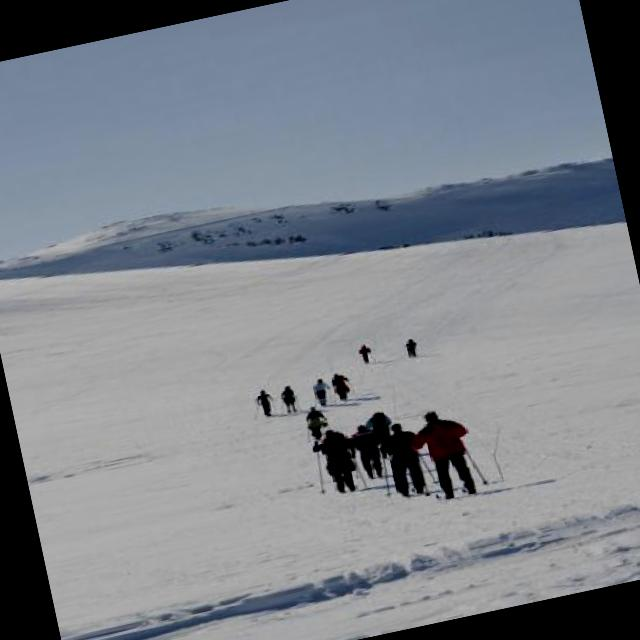Person: (402, 404, 482, 504), (375, 418, 430, 502), (311, 427, 374, 492), (349, 420, 393, 483), (365, 408, 398, 463), (307, 371, 331, 409), (302, 412, 330, 442), (330, 370, 352, 400), (254, 388, 276, 418), (279, 384, 301, 414), (302, 404, 328, 424), (354, 341, 374, 365), (403, 337, 419, 358)
